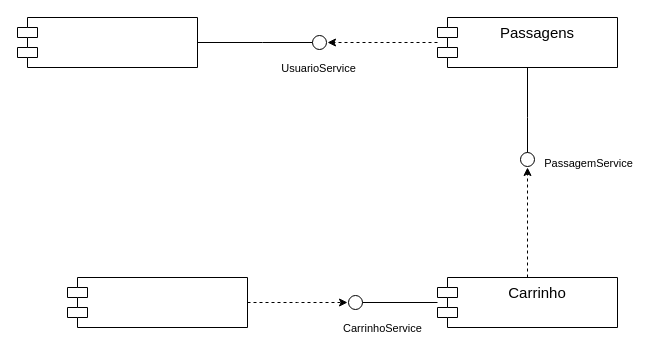
This 650x352 diagram has some shape labels left out. The box of each missing label's shape, as (x1, y1, x2, y2) in pixels:
Pagamento: (66, 276, 248, 328)
Usuario: (16, 16, 198, 68)
